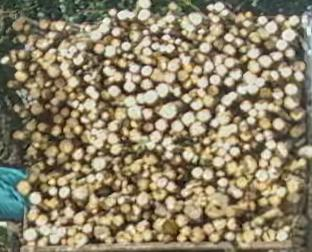large: (206, 194, 228, 217)
medium: (162, 104, 178, 119), (94, 225, 110, 240), (104, 72, 124, 84), (221, 92, 238, 106), (73, 211, 88, 226), (184, 205, 200, 219), (195, 108, 211, 122), (220, 124, 237, 137), (190, 122, 205, 136), (72, 188, 87, 202), (181, 111, 195, 126), (247, 60, 262, 74), (190, 227, 204, 242), (156, 84, 169, 100), (144, 90, 158, 104), (127, 107, 141, 120), (167, 58, 181, 71), (282, 29, 296, 42), (129, 129, 142, 143), (17, 181, 31, 194), (277, 143, 290, 157), (27, 206, 39, 221), (55, 154, 70, 166), (151, 69, 164, 82), (191, 168, 204, 181), (86, 86, 99, 99), (103, 45, 116, 58), (244, 72, 257, 85), (114, 107, 127, 120), (285, 96, 298, 109), (60, 140, 73, 153), (152, 188, 165, 201), (259, 56, 273, 68), (84, 99, 96, 113), (44, 146, 58, 158), (24, 229, 37, 241), (189, 12, 201, 25), (176, 214, 188, 227), (288, 14, 301, 26), (76, 234, 89, 246), (137, 192, 148, 206), (284, 84, 298, 95), (166, 196, 176, 211), (30, 192, 42, 204), (236, 83, 248, 95), (47, 65, 59, 77), (93, 158, 105, 170), (230, 68, 242, 80), (248, 47, 260, 59), (203, 95, 215, 107), (265, 21, 277, 33), (275, 39, 287, 51), (271, 51, 283, 63), (277, 231, 289, 243), (108, 86, 121, 97), (124, 96, 137, 107), (190, 99, 203, 110), (213, 219, 226, 230), (242, 230, 255, 241), (263, 230, 276, 241), (117, 233, 131, 243), (183, 147, 193, 161), (156, 119, 167, 131), (157, 177, 169, 188), (203, 168, 214, 180), (216, 65, 228, 76), (177, 71, 189, 82), (172, 120, 184, 131), (138, 10, 150, 21), (199, 42, 211, 53), (107, 133, 119, 144), (223, 44, 235, 55), (90, 30, 102, 41), (144, 153, 156, 164), (294, 71, 305, 83), (270, 196, 281, 208), (30, 104, 42, 115), (36, 38, 48, 49), (172, 85, 182, 98), (14, 72, 27, 82), (123, 81, 134, 92), (142, 65, 153, 76), (36, 215, 47, 226), (142, 108, 153, 119), (198, 77, 209, 88), (257, 171, 268, 182), (149, 131, 160, 142), (59, 187, 70, 198), (81, 223, 92, 234), (273, 119, 284, 130), (67, 117, 78, 128), (142, 79, 154, 89), (210, 75, 222, 85), (247, 84, 259, 94), (67, 77, 79, 87), (120, 205, 132, 215), (45, 198, 58, 207), (137, 93, 147, 104), (214, 157, 225, 167), (108, 121, 119, 131), (93, 44, 104, 54), (255, 77, 266, 87), (113, 215, 123, 226), (208, 85, 219, 95), (258, 159, 269, 169), (240, 101, 251, 111), (281, 66, 291, 77), (210, 233, 220, 244), (104, 67, 116, 76), (204, 61, 213, 73), (165, 72, 175, 82), (230, 146, 240, 156), (56, 91, 66, 101), (38, 237, 48, 247), (50, 234, 60, 244), (181, 94, 192, 103), (130, 64, 141, 73), (39, 20, 48, 31), (161, 136, 172, 145), (144, 122, 154, 131), (121, 42, 131, 51), (111, 145, 120, 155), (224, 77, 234, 86), (52, 126, 61, 136), (188, 88, 198, 97), (261, 149, 271, 158), (215, 2, 225, 11), (227, 219, 236, 229), (13, 19, 22, 29), (225, 58, 234, 66), (226, 208, 234, 216)
small: (159, 42, 169, 53), (73, 149, 83, 160), (99, 24, 110, 34), (237, 178, 247, 188), (105, 237, 115, 246), (204, 223, 213, 233), (131, 163, 140, 172), (166, 44, 175, 53), (48, 187, 57, 196), (53, 115, 62, 124), (226, 232, 235, 241), (67, 100, 76, 108), (78, 91, 86, 100), (81, 115, 90, 123), (88, 111, 96, 120), (184, 65, 193, 73), (224, 34, 233, 42), (72, 162, 80, 171), (112, 28, 120, 37), (109, 9, 117, 18), (130, 121, 138, 129), (249, 109, 257, 117), (152, 42, 160, 50), (84, 75, 92, 83), (49, 179, 57, 187), (134, 233, 142, 241), (111, 39, 119, 47), (144, 231, 152, 239), (247, 117, 256, 124), (87, 146, 96, 153), (84, 154, 91, 162), (77, 103, 84, 111), (191, 75, 198, 83), (216, 170, 224, 177), (198, 90, 206, 97), (184, 81, 191, 89), (197, 28, 205, 35), (271, 71, 278, 79), (68, 229, 75, 237), (101, 112, 108, 119), (132, 75, 139, 82), (143, 212, 150, 219), (128, 53, 135, 60), (157, 234, 164, 241), (219, 179, 226, 186), (244, 19, 251, 26), (260, 198, 267, 205), (71, 110, 77, 118), (75, 126, 81, 134), (142, 171, 150, 177), (87, 175, 95, 181), (125, 156, 131, 163), (119, 196, 125, 203), (70, 92, 76, 99), (122, 52, 129, 58), (251, 141, 257, 148), (148, 142, 155, 148), (175, 39, 182, 45), (194, 67, 201, 73), (62, 109, 68, 116), (57, 55, 63, 62), (97, 173, 103, 180), (207, 187, 213, 194), (212, 16, 219, 22), (257, 134, 263, 141), (64, 127, 70, 134), (126, 73, 132, 79), (65, 164, 71, 170), (51, 107, 57, 113), (75, 69, 81, 75), (104, 59, 110, 65), (45, 81, 51, 87), (192, 137, 198, 143), (48, 159, 54, 165), (61, 218, 67, 224), (167, 145, 173, 151), (203, 137, 209, 143), (73, 100, 78, 107), (142, 30, 149, 35), (98, 152, 104, 157), (157, 145, 162, 151), (29, 71, 35, 76), (131, 196, 136, 202), (263, 227, 269, 232), (241, 30, 247, 35), (55, 222, 61, 227), (57, 217, 62, 223), (61, 240, 66, 245), (52, 87, 57, 92), (144, 164, 149, 169), (182, 30, 187, 35), (208, 6, 213, 11), (259, 17, 264, 22), (46, 104, 51, 108), (178, 47, 182, 51)
